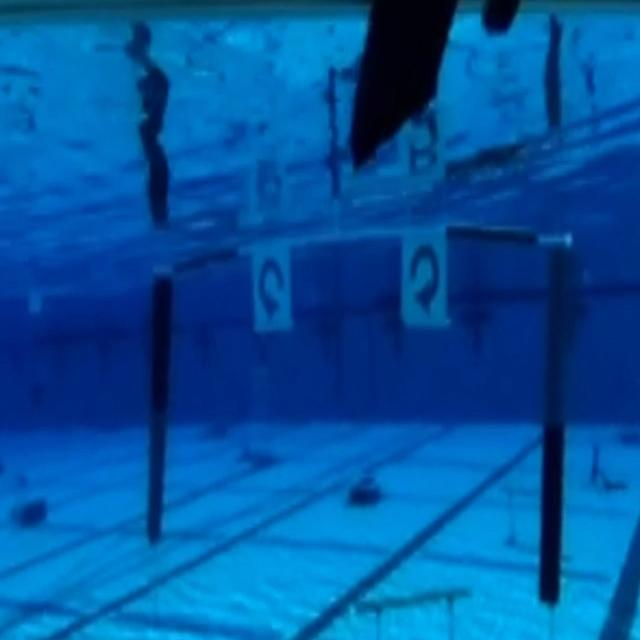Gate: (132, 217, 569, 615)
